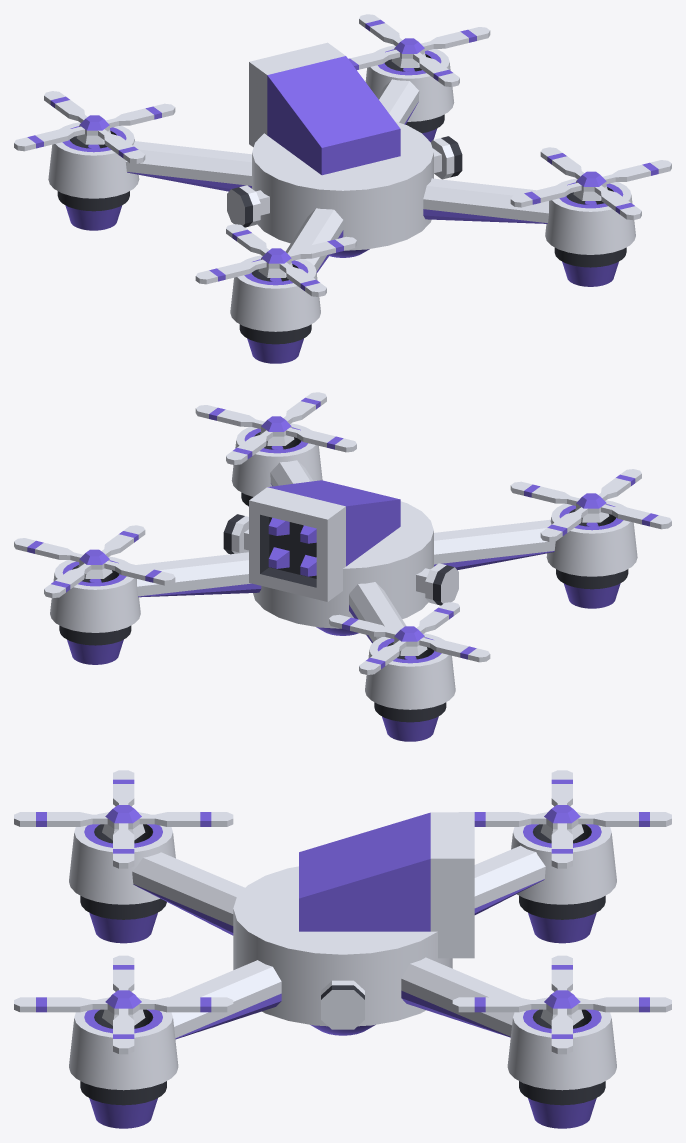
The model's file is Drone.glb.
The picture shows the model from 3 angles, top to bottom: view 1: azimuth 30°, elevation 25°; view 2: azimuth 150°, elevation 25°; view 3: azimuth 270°, elevation 25°; orthographic projection. The views are drawn at different scales.
Parts seen in each view (by area): view 1: engine_round (×4), propeller_quad (×4), weapon_turret, cylinder, hull_tailEdge (×4), socket_double (×2); view 2: engine_round (×4), propeller_quad (×4), weapon_turret, hull_tailEdge (×4), cylinder, socket_double (×2); view 3: engine_round (×4), propeller_quad (×4), weapon_turret, hull_tailEdge (×4), cylinder, socket_double.
Boxes of the visible parts, bbox=[...] form: engine_round (×4): bbox=[48, 45, 635, 363]; propeller_quad (×4): bbox=[14, 14, 671, 296]; weapon_turret: bbox=[249, 42, 400, 175]; cylinder: bbox=[252, 121, 433, 250]; hull_tailEdge (×4): bbox=[125, 79, 548, 273]; socket_double (×2): bbox=[227, 136, 462, 227]; engine_round (×4): bbox=[50, 423, 637, 741]; propeller_quad (×4): bbox=[14, 392, 671, 674]; weapon_turret: bbox=[249, 480, 400, 601]; hull_tailEdge (×4): bbox=[136, 460, 555, 643]; cylinder: bbox=[253, 501, 433, 628]; socket_double (×2): bbox=[223, 514, 458, 605]; engine_round (×4): bbox=[69, 812, 616, 1128]; propeller_quad (×4): bbox=[14, 770, 671, 1054]; weapon_turret: bbox=[299, 812, 474, 958]; hull_tailEdge (×4): bbox=[132, 845, 545, 1039]; cylinder: bbox=[233, 866, 452, 1026]; socket_double: bbox=[321, 980, 364, 1029].
Bounding box in the file's own units: 3 × 0.98 × 3.
